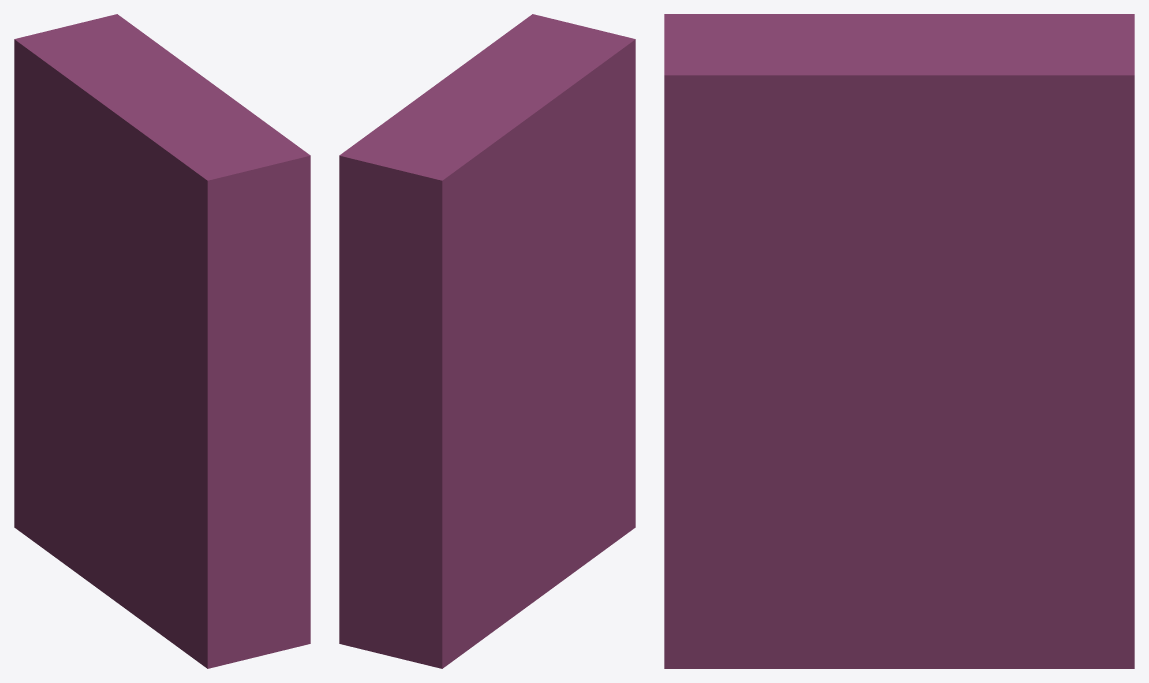
The model's file is Purple Book.fbx.
3 views of the same model, side by side, from view 1: azimuth 30°, elevation 25°; view 2: azimuth 150°, elevation 25°; view 3: azimuth 270°, elevation 25° (orthographic). The views are drawn at different scales.
Visible parts, largest first — view 1: Purple Book; view 2: Purple Book; view 3: Purple Book.
Part boxes in pixels (x1=…): Purple Book: x1=14, y1=14, x2=310, y2=668; Purple Book: x1=339, y1=14, x2=635, y2=668; Purple Book: x1=664, y1=14, x2=1134, y2=668.
Size of the model in its own units: 0.0501 by 0.2265 by 0.1627.
